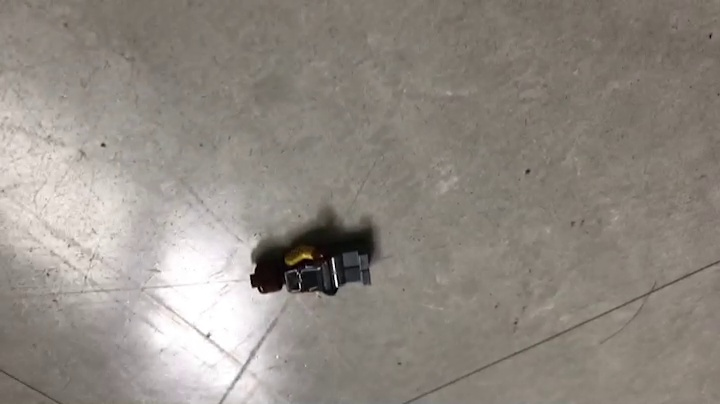people: (246, 218, 375, 298)
